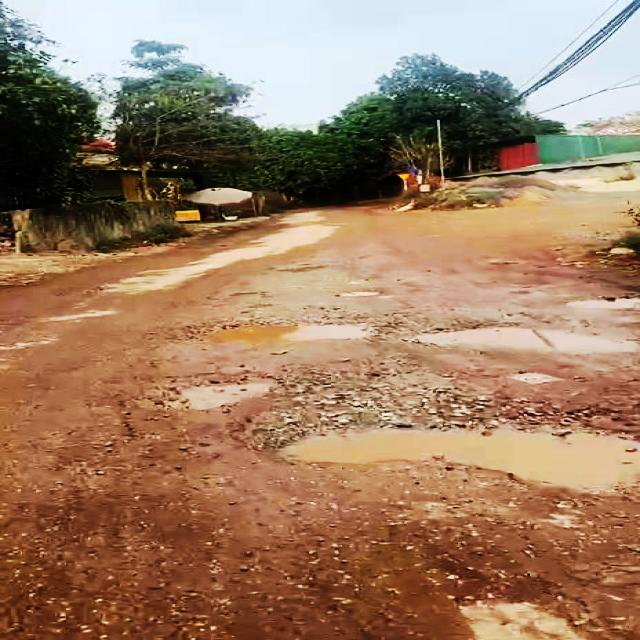pothole: (260, 408, 640, 502), (408, 317, 640, 356), (189, 316, 382, 344), (159, 374, 280, 408)
